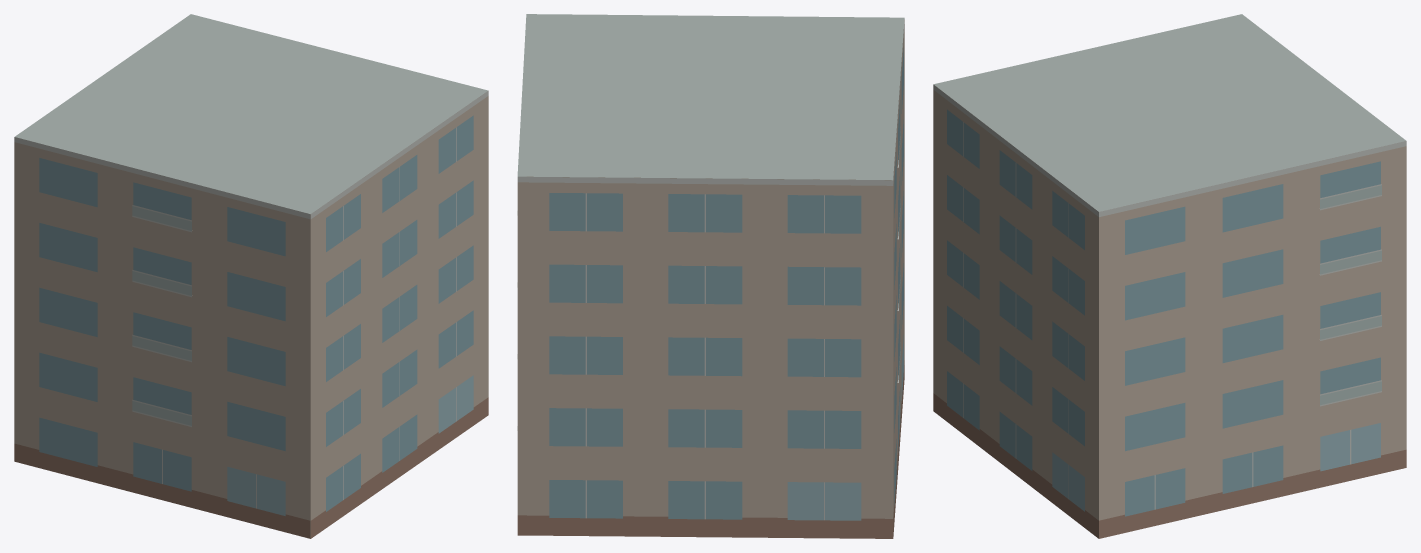
The model's file is survey-upis-32737200.glb.
3 renders of one model, left to right at view 1: azimuth 30°, elevation 25°; view 2: azimuth 150°, elevation 25°; view 3: azimuth 270°, elevation 25°, orthographic. The views are drawn at different scales.
Parts seen in each view (by area): view 1: survey-upis-32737200.tmp; view 2: survey-upis-32737200.tmp; view 3: survey-upis-32737200.tmp.
Boxes of the visible parts, x1,y1,x2,y2 form: survey-upis-32737200.tmp: [14, 14, 488, 538]; survey-upis-32737200.tmp: [517, 14, 904, 538]; survey-upis-32737200.tmp: [933, 14, 1406, 538].
Bounding box in the file's own units: 19.82 × 15.25 × 20.02.
